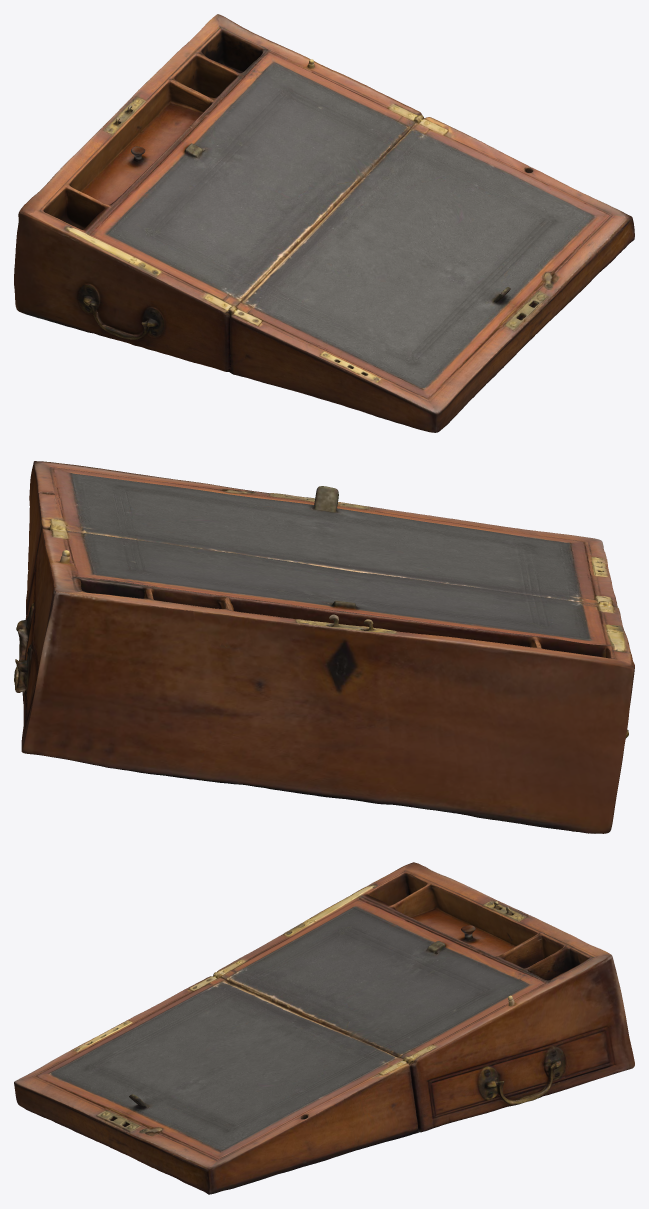
The model's file is jane_austen_desk_open_view_1_add_86841.glb.
3 views of the same model, one above another, from view 1: azimuth 30°, elevation 25°; view 2: azimuth 150°, elevation 25°; view 3: azimuth 270°, elevation 25° (orthographic). The views are drawn at different scales.
Visible parts, largest first — view 1: Object_3, Object_5, Object_2, Object_6, Object_4; view 2: Object_2, Object_4, Object_5, Object_3, Object_6; view 3: Object_3, Object_5, Object_2, Object_4, Object_6.
Part boxes in pixels (x1,y1,x2,y2): Object_3: (14, 30, 563, 432); Object_5: (14, 14, 632, 431); Object_2: (14, 14, 585, 432); Object_6: (14, 14, 634, 430); Object_4: (14, 16, 634, 429); Object_2: (15, 479, 634, 833); Object_4: (14, 461, 631, 833); Object_5: (14, 461, 634, 832); Object_3: (15, 490, 633, 824); Object_6: (14, 464, 634, 833); Object_3: (19, 866, 634, 1187); Object_5: (15, 871, 634, 1194); Object_2: (14, 862, 633, 1165); Object_4: (38, 869, 628, 1194); Object_6: (14, 863, 633, 1193).
Size of the model in its own units: 3.02 by 1.04 by 3.13.
1 material, 1 textured.
